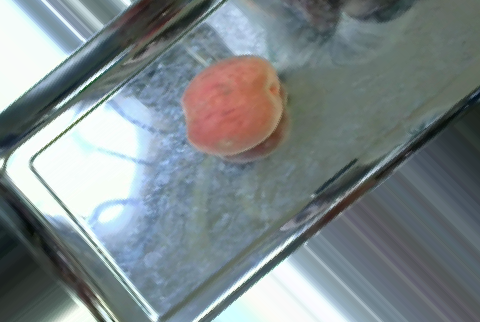Peach: (183, 55, 284, 155)
